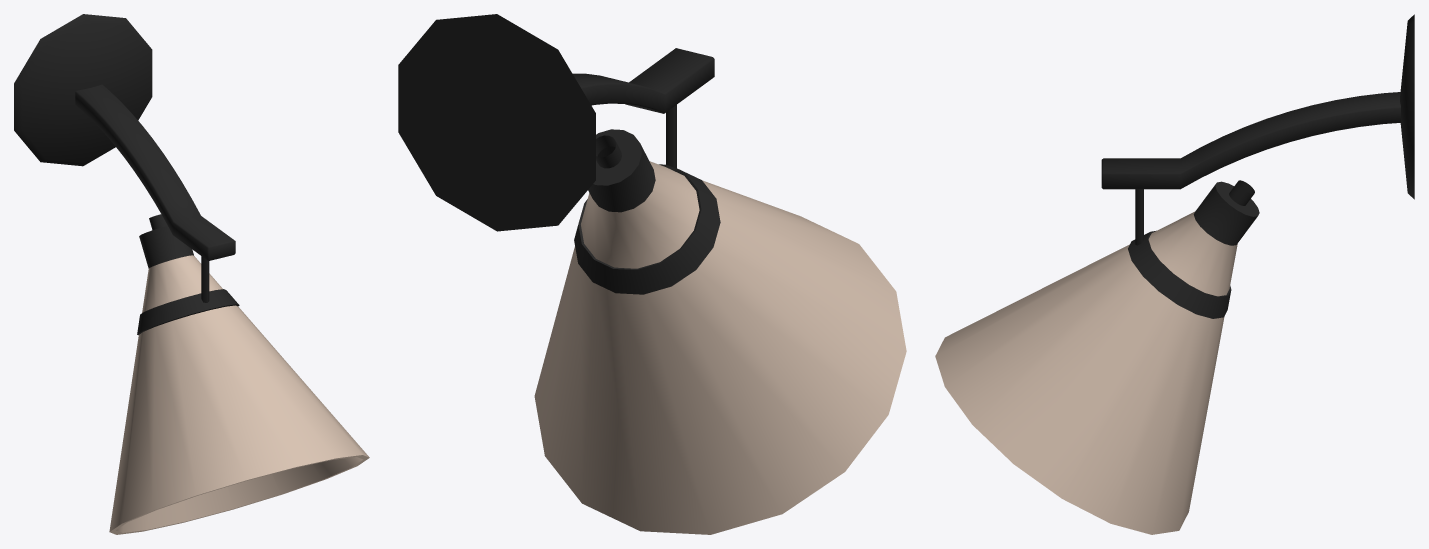
The model's file is Coq_funiture_Celling_light_single01.fbx.
The picture shows the model from 3 angles, left to right: view 1: azimuth 30°, elevation 25°; view 2: azimuth 150°, elevation 25°; view 3: azimuth 270°, elevation 25°; orthographic projection. The views are drawn at different scales.
Parts seen in each view (by area): view 1: light; view 2: light; view 3: light.
Boxes of the visible parts, box(x1,y1,x2,y2) form: light: box(14, 14, 369, 534); light: box(398, 14, 906, 534); light: box(935, 14, 1414, 534).
Bounding box in the file's own units: 73.88 × 131 × 116.
